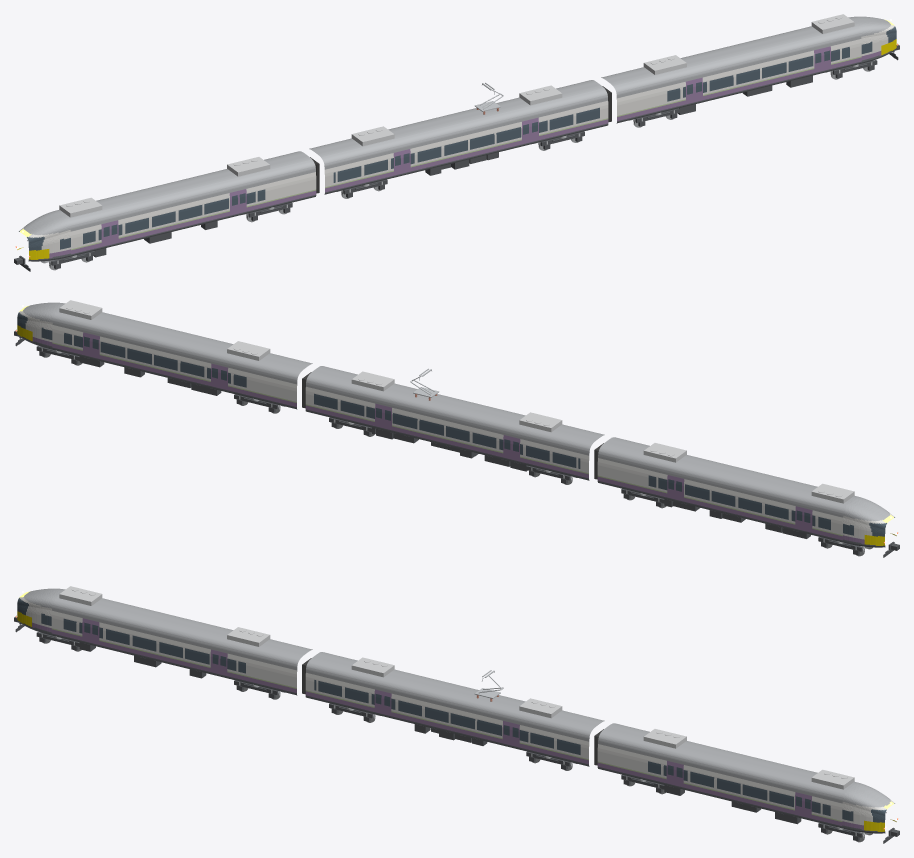
File: scotrail_class_385__neutral.glb
The picture shows the model from 3 angles, top to bottom: view 1: azimuth 30°, elevation 25°; view 2: azimuth 150°, elevation 25°; view 3: azimuth 330°, elevation 25°; orthographic projection.
Parts seen in each view (by area): view 1: Voiture_2_Caisse_pavillon, Voiture_1_Caisse_pavillon, Voiture_3_Caisse_pavillon, Voiture_1_Caisse_caisse, Voiture_3_Caisse_caisse, Voiture_2_Caisse_vitre, Voiture_2_Caisse_caisse, Voiture_1_Caisse_vitre, Voiture_3_Caisse_vitre, Voiture_2_Caisse_bande, Voiture_1_Caisse_bande, Voiture_1_Climatisation (+9 smaller); view 2: Voiture_2_Caisse_pavillon, Voiture_1_Caisse_pavillon, Voiture_3_Caisse_pavillon, Voiture_1_Caisse_caisse, Voiture_3_Caisse_caisse, Voiture_2_Caisse_vitre, Voiture_2_Caisse_caisse, Voiture_1_Caisse_vitre, Voiture_3_Caisse_vitre, Voiture_2_Caisse_bande, Voiture_1_Caisse_bande, Voiture_1_Climatisation (+12 smaller); view 3: Voiture_2_Caisse_pavillon, Voiture_3_Caisse_pavillon, Voiture_1_Caisse_pavillon, Voiture_3_Caisse_caisse, Voiture_1_Caisse_caisse, Voiture_2_Caisse_vitre, Voiture_2_Caisse_caisse, Voiture_3_Caisse_vitre, Voiture_1_Caisse_vitre, Voiture_2_Caisse_bande, Voiture_3_Caisse_bande, Voiture_3_Climatisation (+9 smaller).
Boxes of the visible parts, <box> form: Voiture_2_Caisse_pavillon: <box>309,80,607,169</box>; Voiture_1_Caisse_pavillon: <box>24,151,315,235</box>; Voiture_3_Caisse_pavillon: <box>601,16,890,98</box>; Voiture_1_Caisse_caisse: <box>20,172,316,253</box>; Voiture_3_Caisse_caisse: <box>616,25,894,115</box>; Voiture_2_Caisse_vitre: <box>333,107,599,182</box>; Voiture_2_Caisse_caisse: <box>324,100,608,187</box>; Voiture_1_Caisse_vitre: <box>19,189,265,250</box>; Voiture_3_Caisse_vitre: <box>667,26,896,101</box>; Voiture_2_Caisse_bande: <box>325,119,608,192</box>; Voiture_1_Caisse_bande: <box>49,190,316,258</box>; Voiture_1_Climatisation: <box>59,157,270,217</box>; Voiture_2_Caisse_pavillon: <box>306,366,604,455</box>; Voiture_1_Caisse_pavillon: <box>598,437,889,521</box>; Voiture_3_Caisse_pavillon: <box>23,302,312,384</box>; Voiture_1_Caisse_caisse: <box>597,458,893,539</box>; Voiture_3_Caisse_caisse: <box>19,311,297,401</box>; Voiture_2_Caisse_vitre: <box>314,393,580,468</box>; Voiture_2_Caisse_caisse: <box>305,386,589,473</box>; Voiture_1_Caisse_vitre: <box>648,475,894,536</box>; Voiture_3_Caisse_vitre: <box>17,312,246,387</box>; Voiture_2_Caisse_bande: <box>305,405,588,478</box>; Voiture_1_Caisse_bande: <box>597,476,864,544</box>; Voiture_1_Climatisation: <box>643,443,854,503</box>; Voiture_2_Caisse_pavillon: <box>306,652,604,741</box>; Voiture_3_Caisse_pavillon: <box>598,723,890,807</box>; Voiture_1_Caisse_pavillon: <box>24,588,312,670</box>; Voiture_3_Caisse_caisse: <box>597,744,894,825</box>; Voiture_1_Caisse_caisse: <box>20,597,297,687</box>; Voiture_2_Caisse_vitre: <box>314,680,580,754</box>; Voiture_2_Caisse_caisse: <box>305,672,589,759</box>; Voiture_3_Caisse_vitre: <box>648,761,894,822</box>; Voiture_1_Caisse_vitre: <box>17,597,245,673</box>; Voiture_2_Caisse_bande: <box>305,691,588,764</box>; Voiture_3_Caisse_bande: <box>597,762,863,830</box>; Voiture_3_Climatisation: <box>643,729,854,789</box>.
Bounding box in the file's own units: 71.62 × 5.67 × 2.72.
